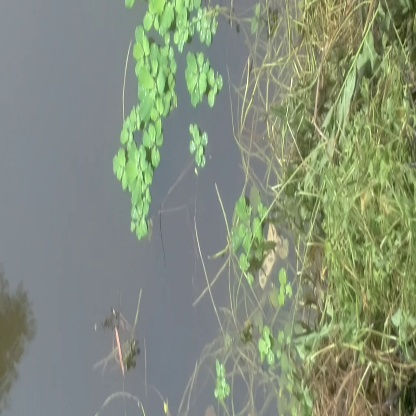grass: (115, 26, 220, 244)
